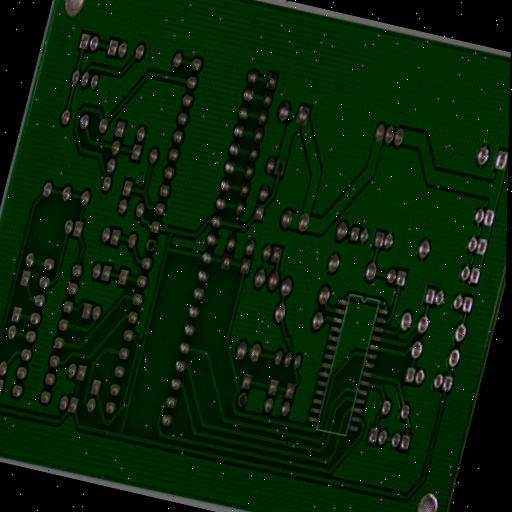missing_hole: (143, 234, 160, 256), (273, 158, 288, 180), (234, 390, 249, 412)
